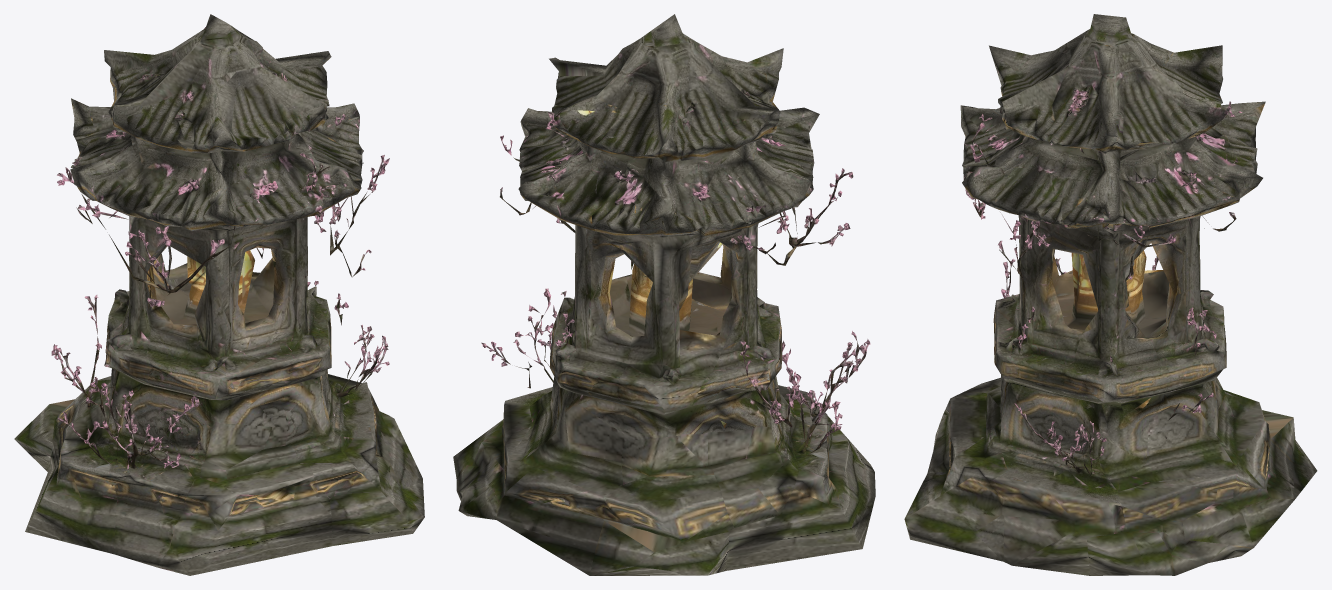
The model's file is turm_laterne.glb.
The picture shows the model from 3 angles, left to right: view 1: azimuth 30°, elevation 25°; view 2: azimuth 150°, elevation 25°; view 3: azimuth 270°, elevation 25°; orthographic projection. The views are drawn at different scales.
Size of the model in its own units: 1.53 by 1.8 by 1.41.
1 material, 1 textured.
